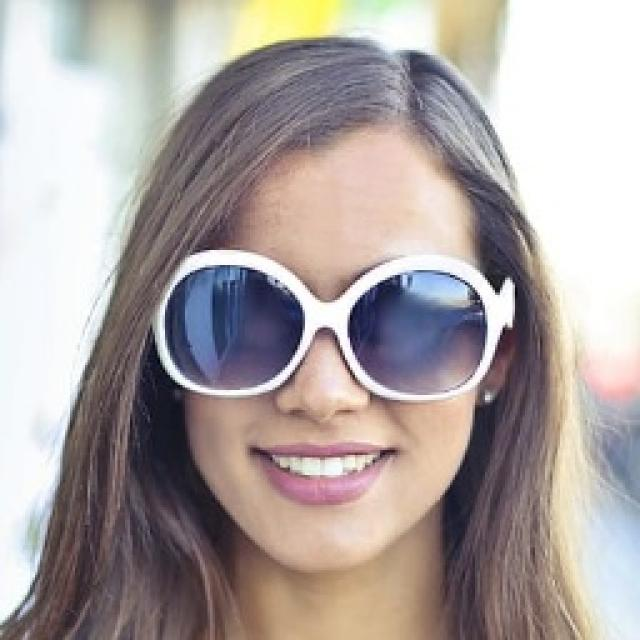glasses: (128, 220, 542, 415)
